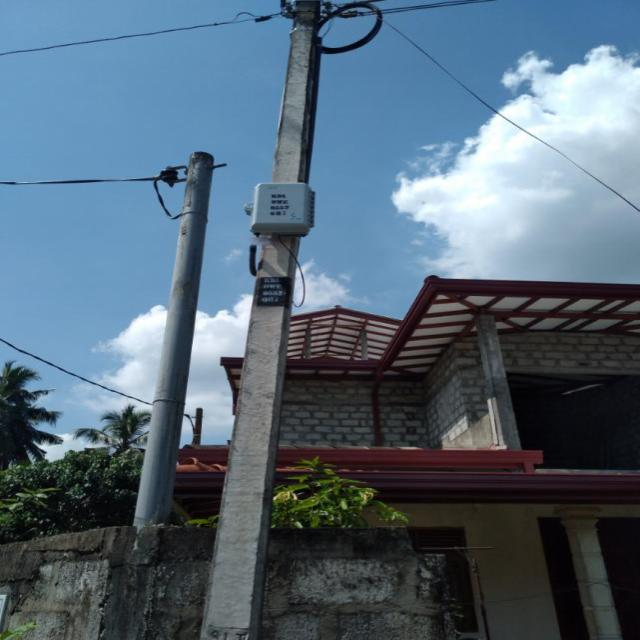light_pole: (198, 0, 331, 640), (122, 146, 214, 530)
